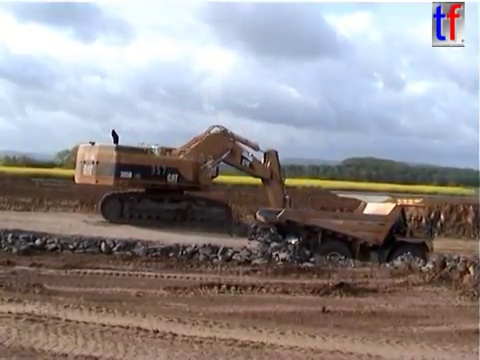excavator: (71, 122, 297, 262)
truck: (253, 196, 441, 287)
